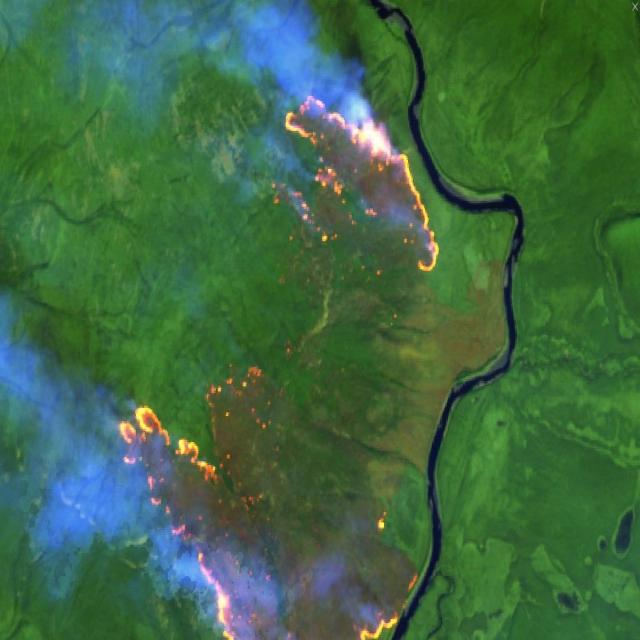fire: (114, 89, 442, 640)
